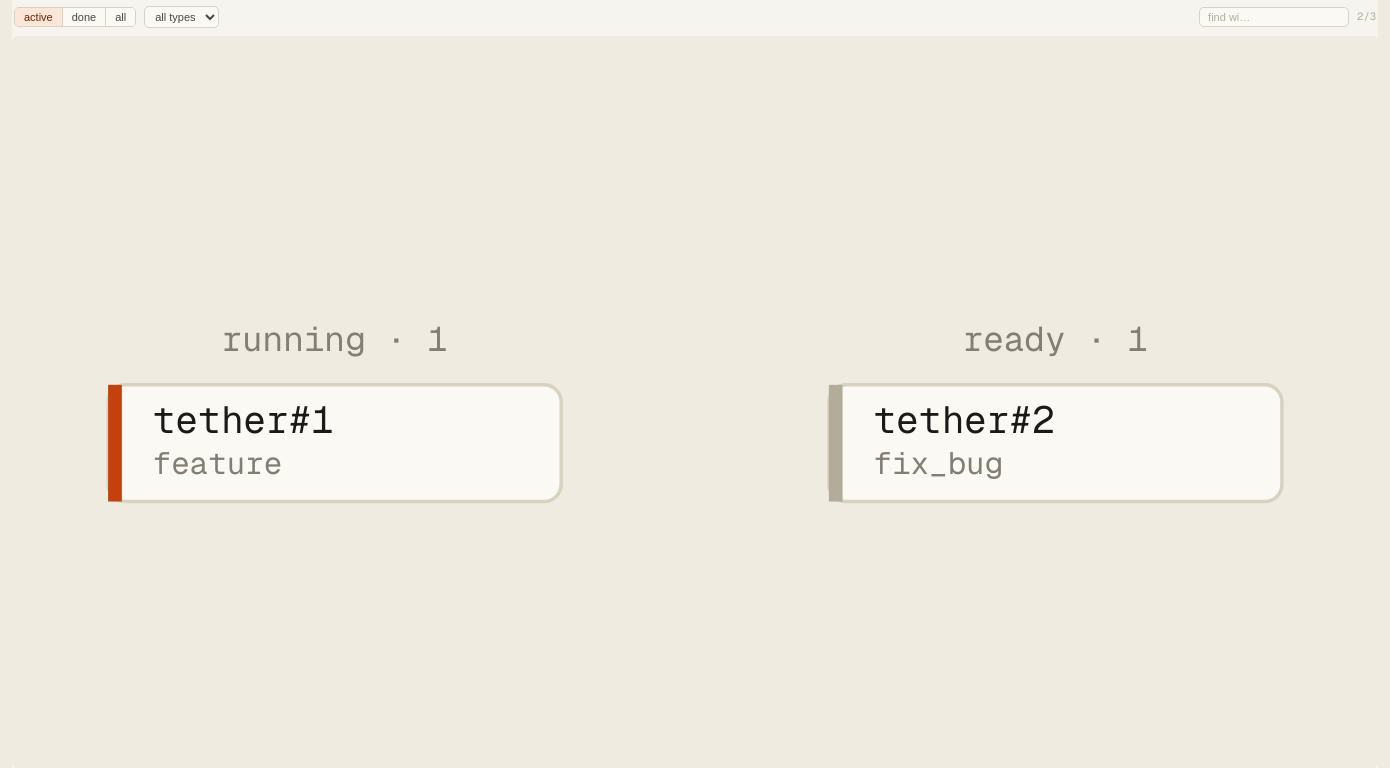
Test case: WorkGraphView search wiring (tether#29 behaviour, tether#90 wiring) › an active search reaches a wi the active filter hides
The image size is (1390, 768).
Expected: the text "tether#1" is shown, [153,395,334,444]
Expected: the text "tether#3" is not shown
Step 1. Type "#3" into the field with class "fg-search-input" → (1274, 17), box [1199,7,1349,27]
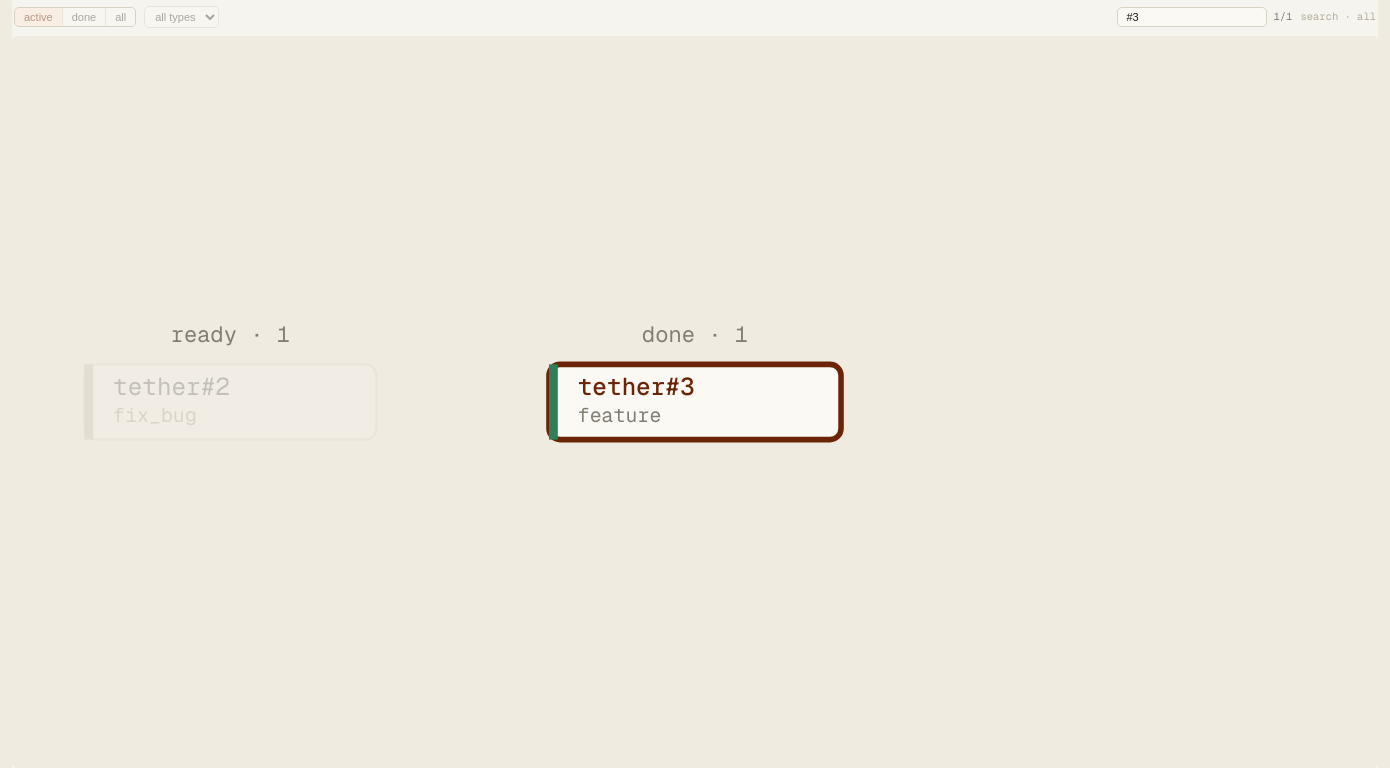
Expected: the text "tether#3" is shown, [578,371,694,402]
Expected: the text with class "fg-filter-count" reads "search · all", [1300,9,1376,23]
